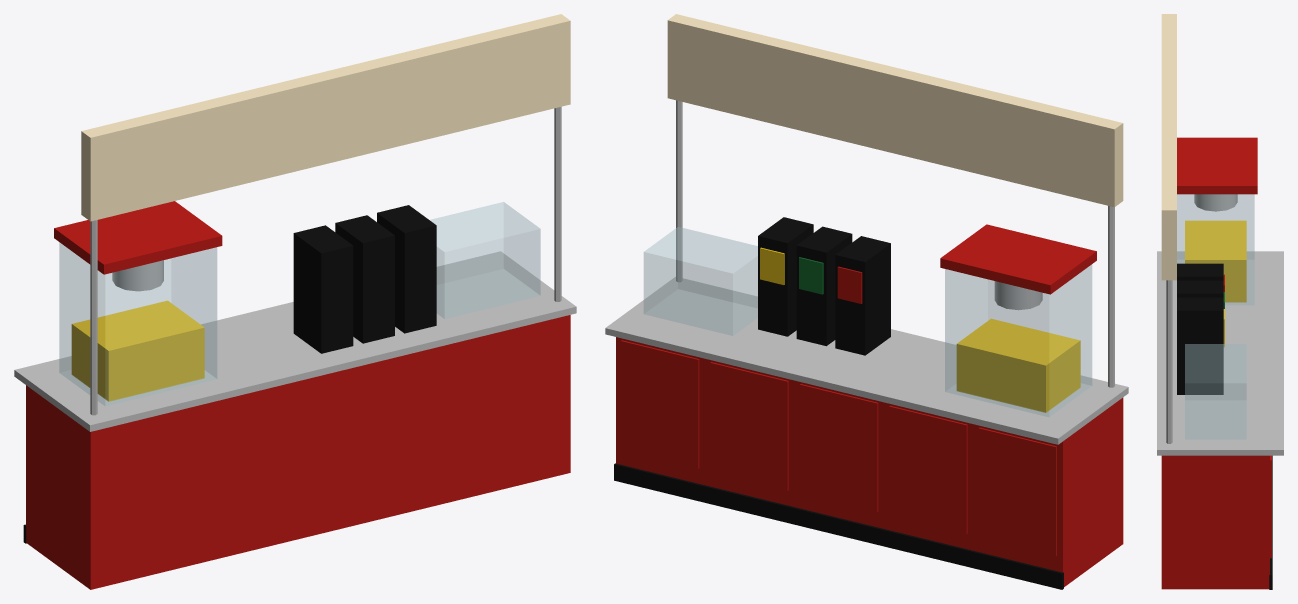
Rendered from venue.foyer.concession.glb.
3 renders of one model, left to right at view 1: azimuth 30°, elevation 25°; view 2: azimuth 150°, elevation 25°; view 3: azimuth 270°, elevation 25°, orthographic. The views are drawn at different scales.
Parts seen in each view (by area): view 1: main__plastic_red, main__glow, main__glass, main__steel_stainless, main__plastic_black, main__plastic_yellow; view 2: main__plastic_red, main__glow, main__steel_stainless, main__glass, main__plastic_black, main__plastic_yellow, main__plastic_green; view 3: main__plastic_red, main__steel_stainless, main__glass, main__plastic_black, main__glow, main__plastic_yellow.
Boxes of the visible parts, box(x1,y1,x2,y2) form: main__plastic_red: box(26, 201, 570, 589); main__glow: box(81, 14, 570, 221); main__glass: box(59, 202, 540, 406); main__steel_stainless: box(14, 106, 576, 431); main__plastic_black: box(23, 205, 436, 543); main__plastic_yellow: box(71, 300, 204, 401); main__plastic_red: box(616, 224, 1123, 586); main__glow: box(667, 14, 1123, 207); main__steel_stainless: box(605, 100, 1128, 444); main__glass: box(644, 227, 1091, 416); main__plastic_black: box(614, 217, 1063, 589); main__plastic_yellow: box(760, 247, 1080, 412); main__plastic_green: box(799, 257, 823, 294); main__plastic_red: box(1161, 137, 1271, 589); main__steel_stainless: box(1157, 194, 1283, 455); main__glass: box(1177, 194, 1254, 439); main__plastic_black: box(1177, 263, 1272, 589); main__glow: box(1161, 14, 1176, 280); main__plastic_yellow: box(1185, 220, 1246, 347).
Size of the model in its own units: 3.04 by 2.7 by 0.82.
